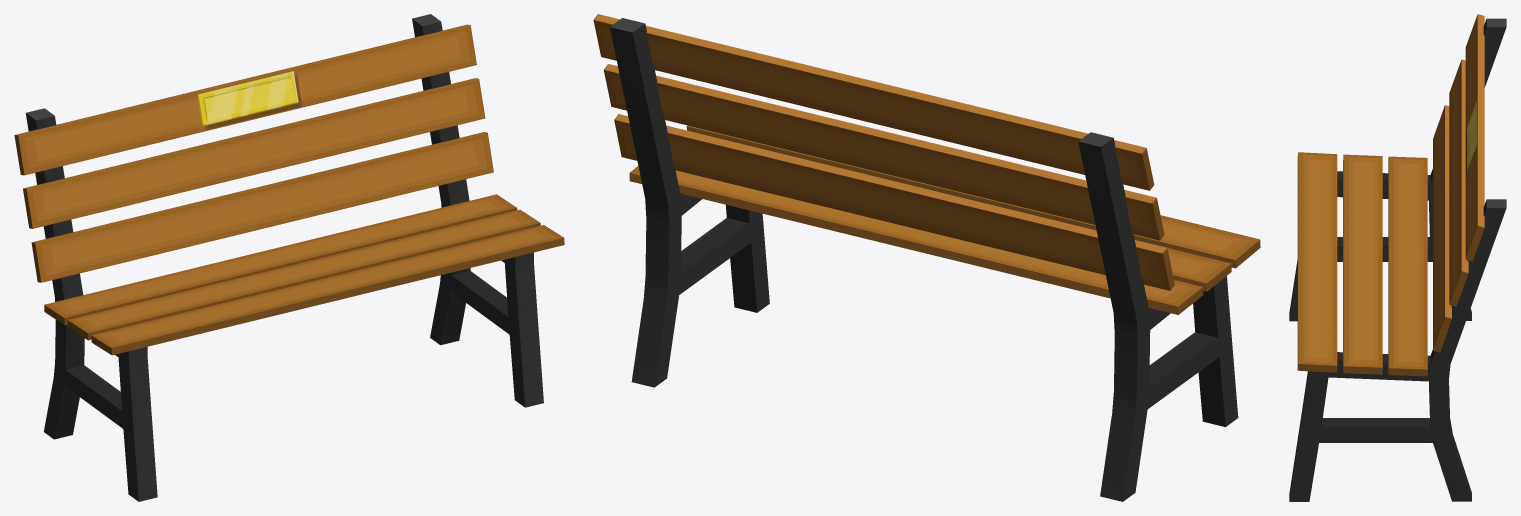
Rendered from city_bench.glb.
The picture shows the model from 3 angles, left to right: view 1: azimuth 30°, elevation 25°; view 2: azimuth 150°, elevation 25°; view 3: azimuth 270°, elevation 25°; orthographic projection. The views are drawn at different scales.
Visible parts, largest first — view 1: city:polySurface319; view 2: city:polySurface319; view 3: city:polySurface319.
Boxes of the visible parts, <box> form: city:polySurface319: <box>14,14,564,501</box>; city:polySurface319: <box>593,14,1260,501</box>; city:polySurface319: <box>1289,14,1506,501</box>.
Size of the model in its own units: 1.93 by 1.25 by 0.8366.
Materials: 1 (1 with a texture image).
